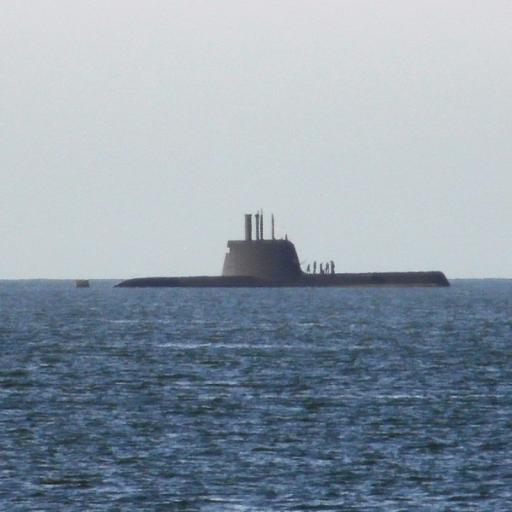submarine: (81, 205, 459, 289)
